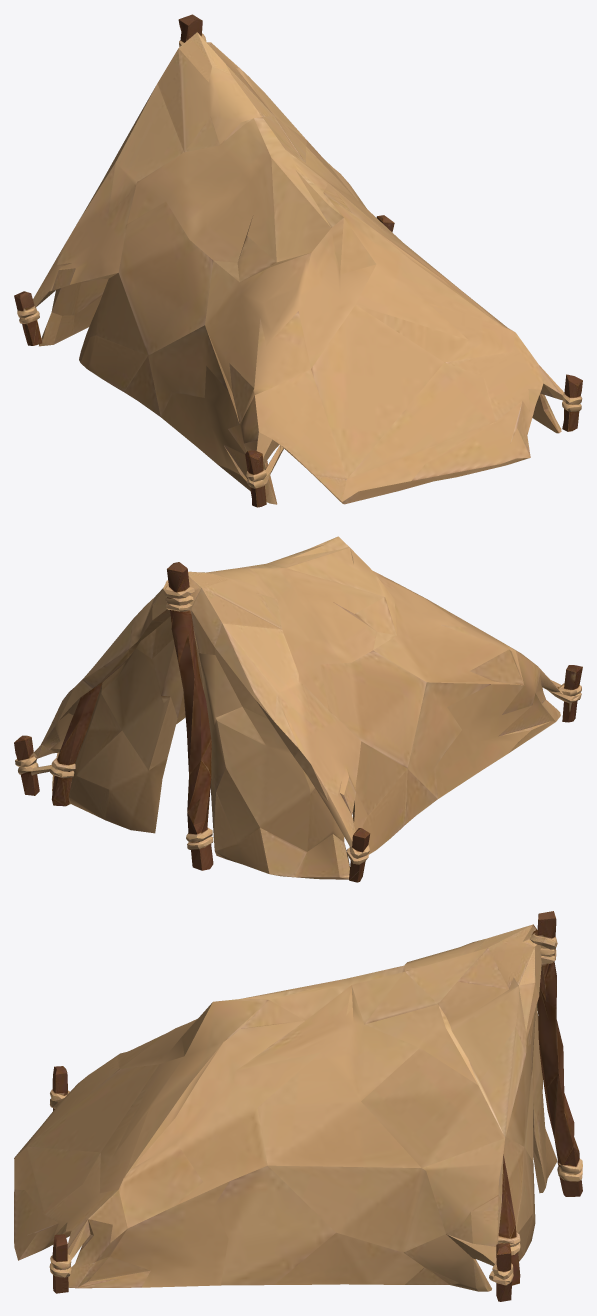
The model's file is tent-mid.glb.
3 renders of one model, top to bottom at view 1: azimuth 30°, elevation 25°; view 2: azimuth 150°, elevation 25°; view 3: azimuth 270°, elevation 25°, orthographic. The views are drawn at different scales.
Size of the model in its own units: 1.48 by 1.1 by 1.89.
Materials: 1 (1 with a texture image).
